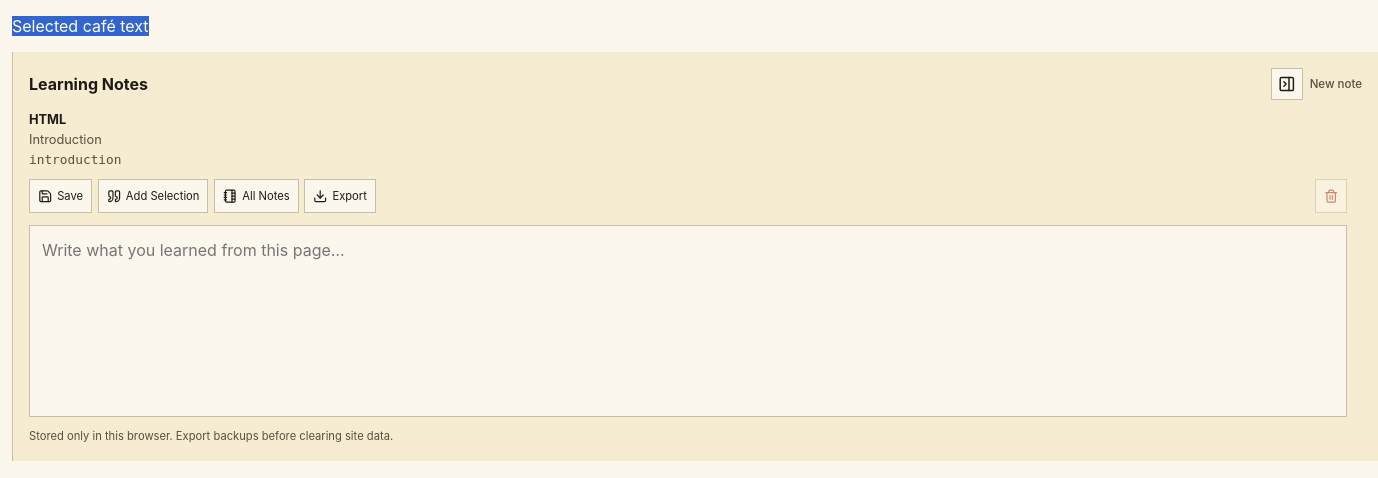
LearningNotesPanel › adds only text selected inside the documentation reader
Expected: the text box named "Note for current page" is enabled, [29,225,1347,417]
Click the button "Add Selection". click: (153, 196)
box: [98,179,208,213]
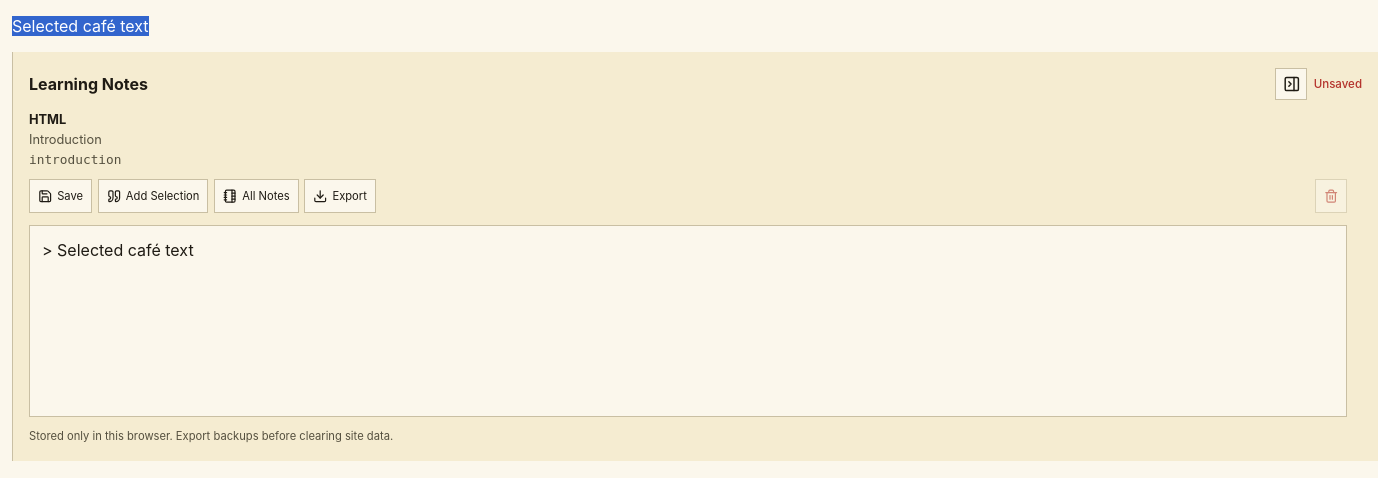
Expected: the text box named "Note for current page" holds "> Selected café text", [29,225,1347,417]
